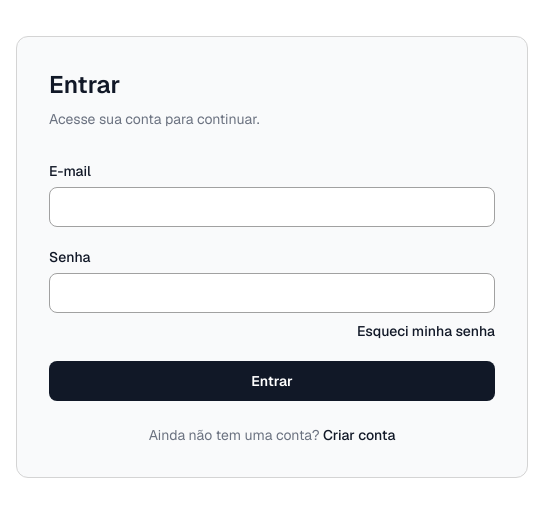
Test: LoginPage › deve exibir mensagem de erro retornada pela API
Type "guilherme@example.com" into the field labelled "E-mail" at (272, 207), box [49,187,495,227]
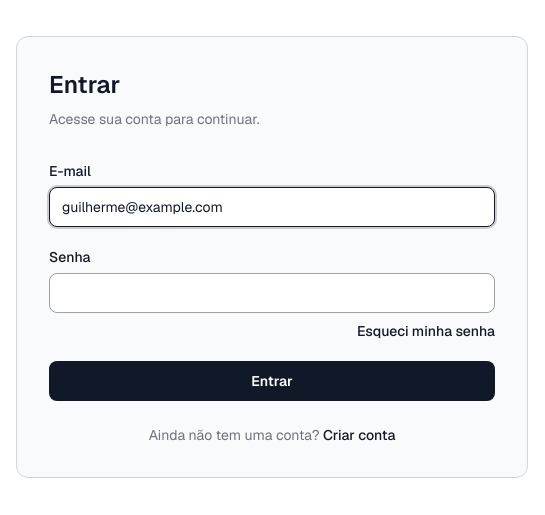
Type "senha-errada" into the password field labelled "Senha" at (272, 293), box [49,273,495,313]
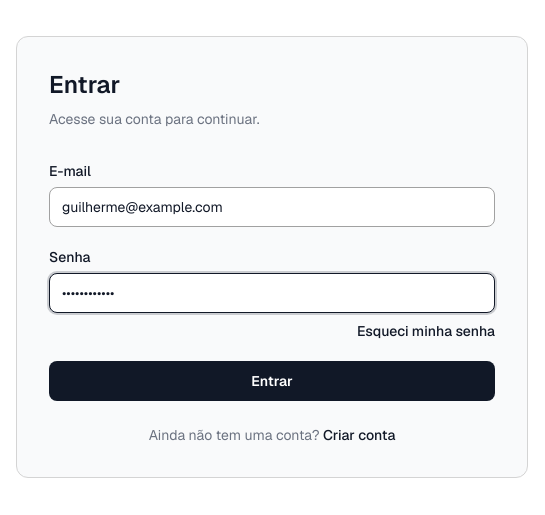
Click the button "Entrar" at (272, 381), box [49,361,495,401]
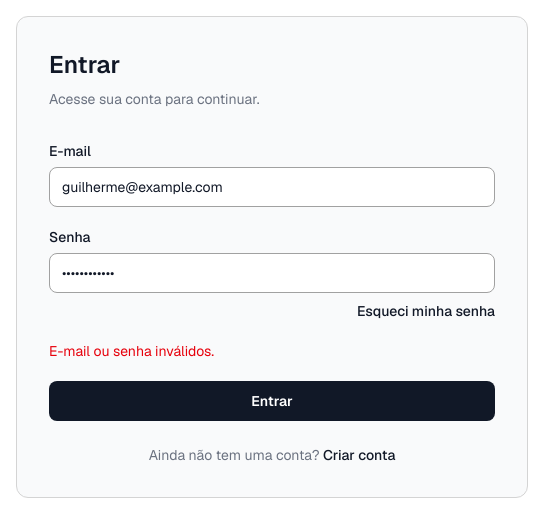
Expected: the message reads "E-mail ou senha inválidos.", [49,342,214,360]
